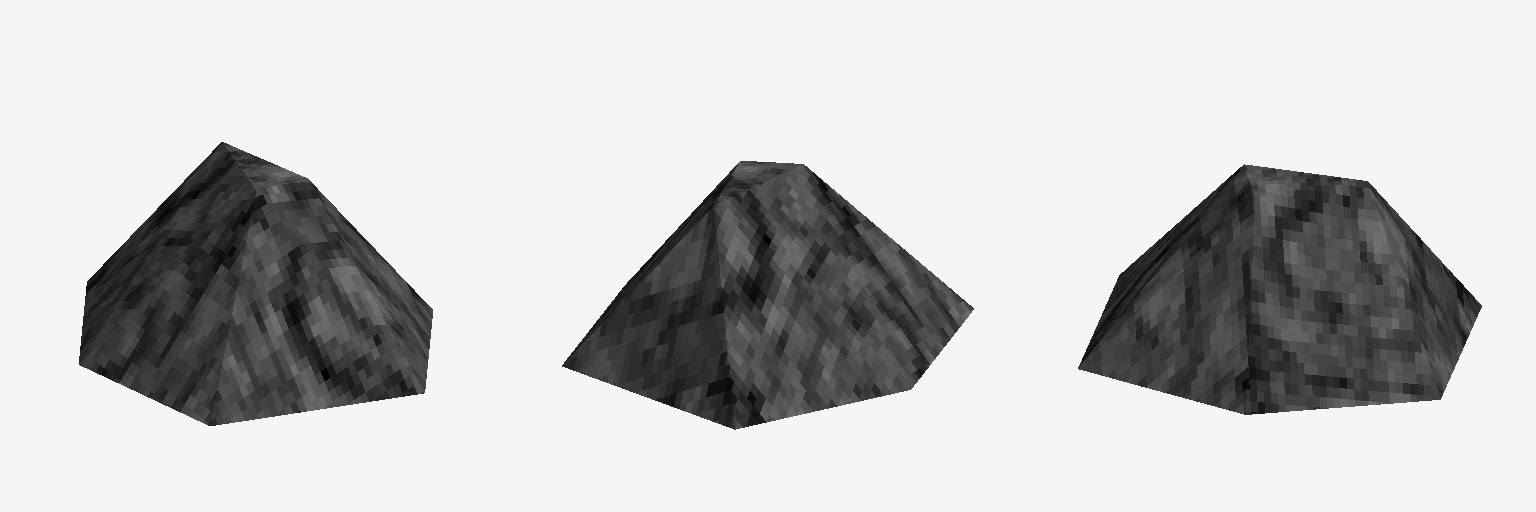
The picture shows the model from 3 angles: view 1: azimuth 30°, elevation 25°; view 2: azimuth 150°, elevation 25°; view 3: azimuth 270°, elevation 25°; orthographic projection.
Visible parts, largest first — view 1: rock1; view 2: rock1; view 3: rock1.
Boxes of the visible parts, box(x1,y1,x2,y2) form: rock1: box(79, 142, 432, 425); rock1: box(562, 161, 973, 429); rock1: box(1078, 164, 1481, 414).
Size of the model in its own units: 0.3836 by 0.1902 by 0.4194.
Materials: 1 (1 with a texture image).